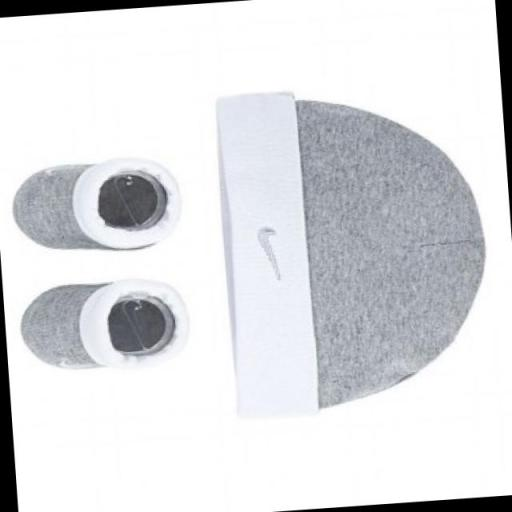Nike: (255, 218, 288, 286)
